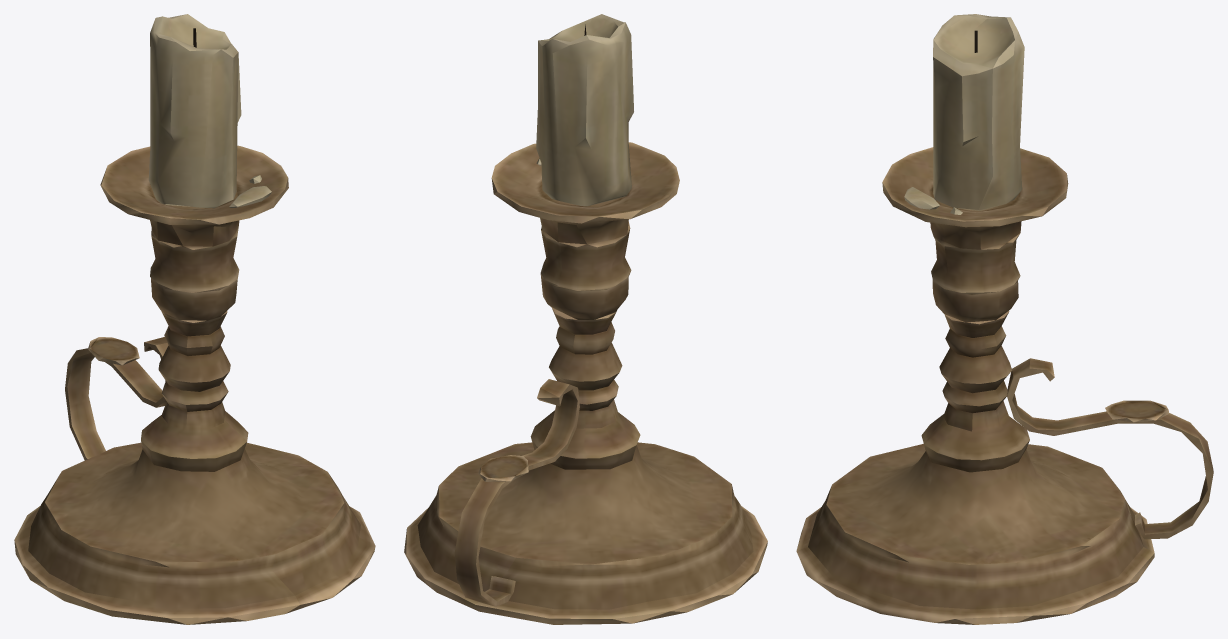
Rendered from candle-a.lod1.glb.
3 renders of one model, left to right at view 1: azimuth 30°, elevation 25°; view 2: azimuth 150°, elevation 25°; view 3: azimuth 270°, elevation 25°, orthographic.
Visible parts, largest first — view 1: candle-a; view 2: candle-a; view 3: candle-a.
Boxes of the visible parts, x1,y1,x2,y2 form: candle-a: (14,14,375,624); candle-a: (404,14,767,624); candle-a: (796,14,1213,624).
Bounding box in the file's own units: 0.121 × 0.1955 × 0.141.
Materials: 2 (2 with a texture image).
